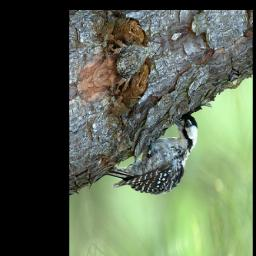Woodpecker: (103, 109, 204, 224)
